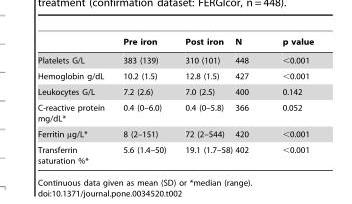table: (37, 37, 313, 164)
table column: (37, 37, 113, 164), (113, 37, 174, 164), (174, 37, 233, 164), (264, 37, 313, 164), (233, 37, 264, 164)
table column header: (37, 37, 313, 50)
table row: (37, 99, 313, 125), (37, 141, 313, 164), (37, 50, 313, 68), (37, 83, 313, 99), (37, 125, 313, 141), (37, 68, 313, 83), (37, 37, 313, 50)
